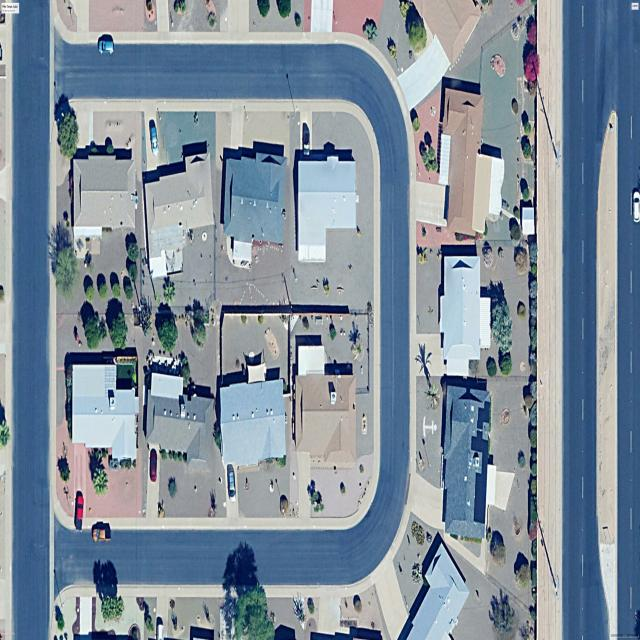Home: (439, 88, 504, 233), (145, 153, 214, 278), (293, 345, 357, 465), (442, 385, 491, 538), (223, 144, 287, 259), (219, 365, 286, 467), (70, 364, 138, 462), (147, 372, 214, 471), (297, 156, 358, 262), (407, 543, 469, 640), (440, 255, 490, 375), (71, 155, 137, 240)
